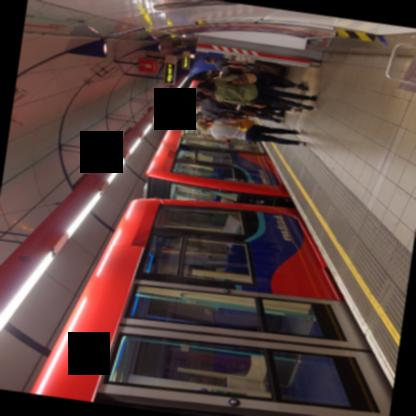handbag: (214, 73, 250, 84), (201, 106, 235, 117), (233, 117, 256, 130), (237, 103, 258, 115), (240, 72, 256, 82)
